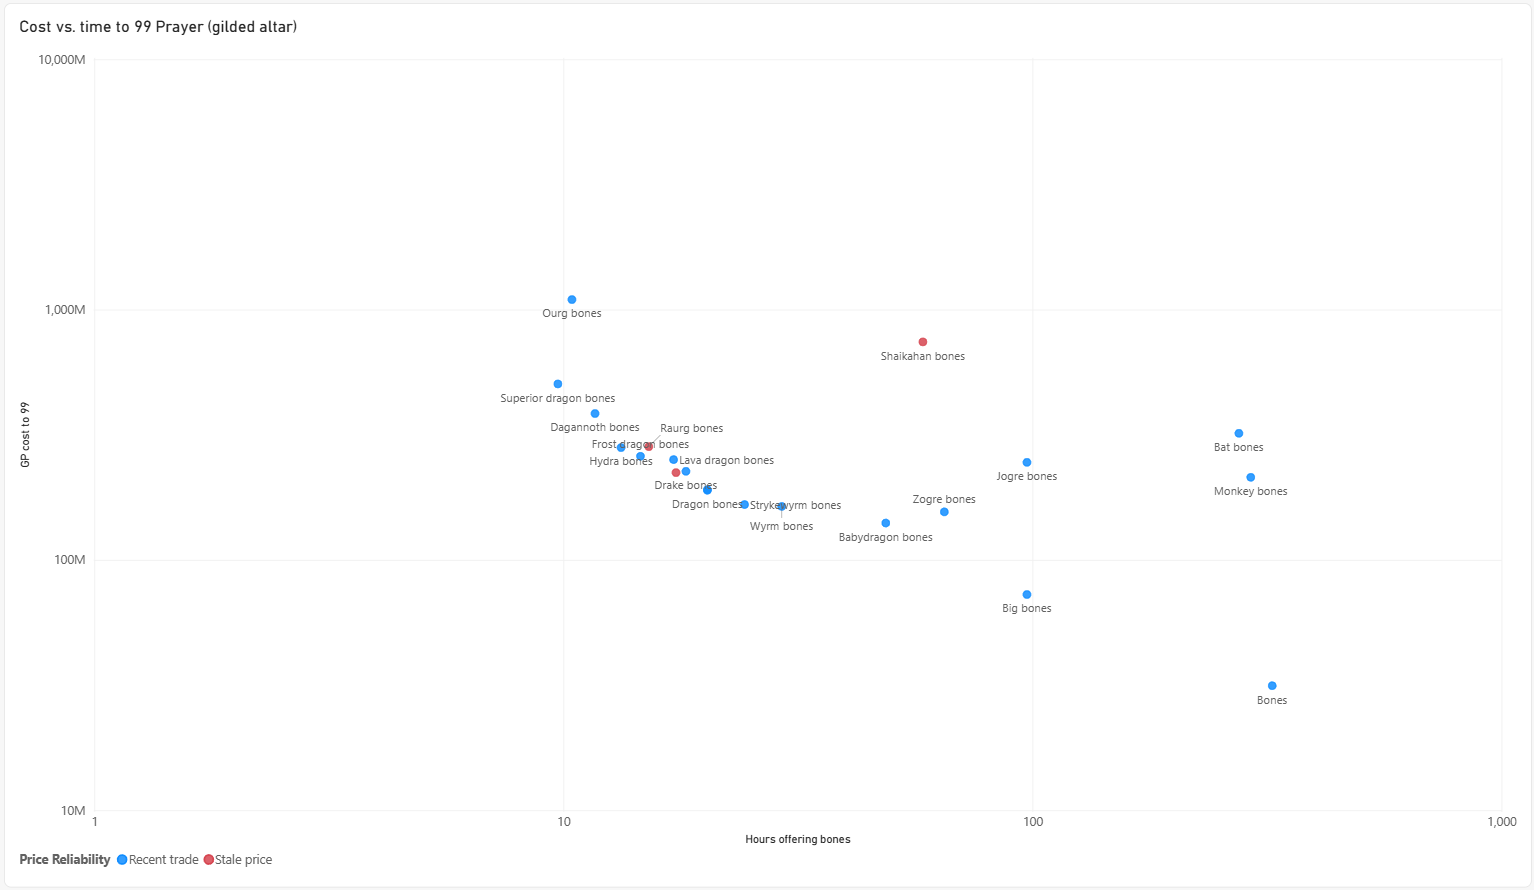

The page's visual inventory and layout, read from the dashboard file:
{"tool":"powerbi","page":{"name":"Page 1","canvas":[1920,1080],"ordinal":0},"visuals":[{"type":"scatterChart","title":"Cost vs. time to 99 Prayer (gilded altar)","fields":{"Category":["prayer_cost_vs_time.name"],"Series":["prayer_cost_vs_time.price_status"],"X":["Sum(prayer_cost_vs_time.hours_to_99)"],"Y":["Sum(prayer_cost_vs_time.cost_to_99)"]},"box":[105,41.2,1709.9,990.4],"z":0}]}

Visuals, with their boxes on the page's 1920x1080 design canvas (x1, y1, x2, y2). These are canvas units, not pixel positions in the 1534x890 screenshot, which may show the page scaled, cropped or inside an application window:
"Cost vs. time to 99 Prayer (gilded altar)" scatterChart: 105/41/1815/1032
